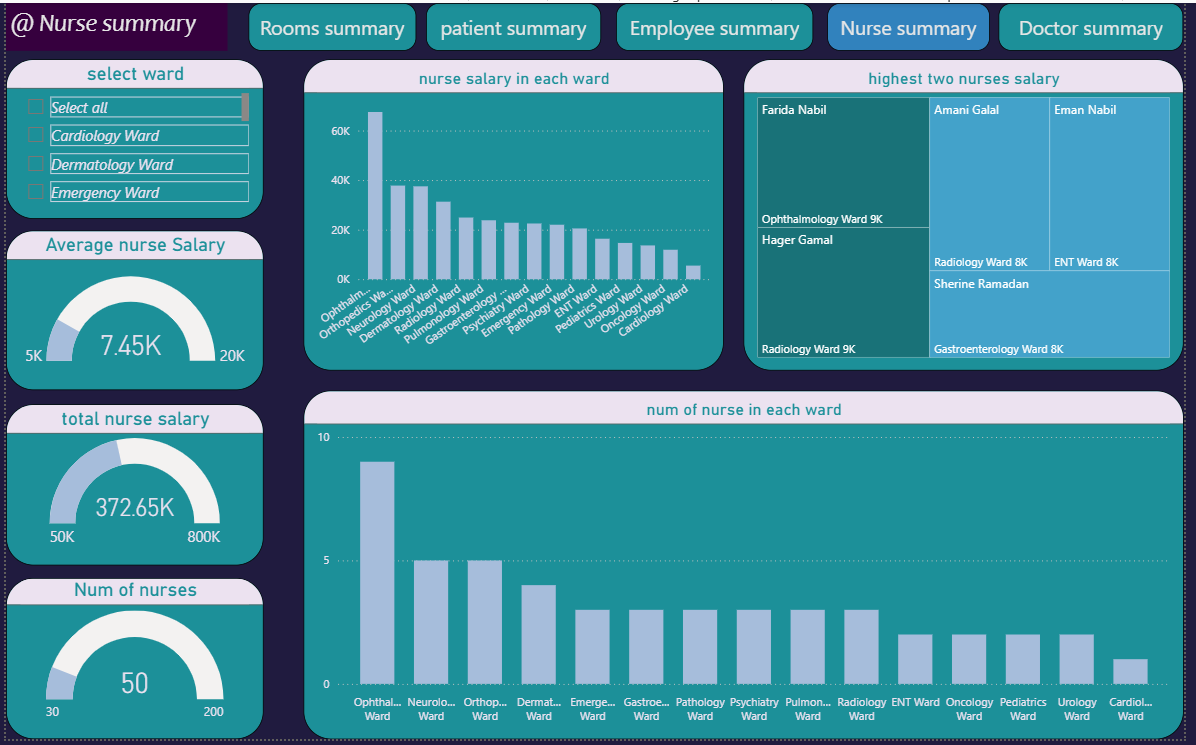

What the dashboard file says about the page in this screenshot:
{"tool":"powerbi","page":{"name":"Nurse ","canvas":[1280,800],"ordinal":2},"visuals":[{"type":"gauge","title":"Num of nurses","fields":{"Y":["CountNonNull(Nurse.Nrs_ID)"]},"box":[0,625,279.9,175.3],"z":0},{"type":"gauge","title":"total nurse salary ","fields":{"Y":["Sum(Nurse.Salary)"]},"box":[0,436.1,279.9,175.3],"z":1000},{"type":"gauge","title":"Average  nurse Salary","fields":{"Y":["Avg(Nurse.Salary)"]},"box":[0,247.3,279.9,173.9],"z":2000},{"type":"treemap","title":"highest two nurses salary","fields":{"Group":["Nurse.name"],"Details":["Ward.Name"],"Values":["Sum(Nurse.Salary)"]},"box":[801.6,61.1,478.3,338.3],"z":3000},{"type":"slicer","title":"select ward ","fields":{"Values":["Ward.Name"]},"box":[0,61.1,279.9,173.9],"z":4000},{"type":"clusteredColumnChart","title":"nurse salary in each ward","fields":{"Y":["Sum(Nurse.Salary)"],"Category":["Ward.Name"]},"box":[323.4,61.1,456.5,338.3],"z":5000},{"type":"clusteredColumnChart","title":"num of nurse in each ward ","fields":{"Y":["CountNonNull(Nurse.Nrs_ID)"],"Category":["Ward.Name"]},"box":[323.4,421.2,956.5,379.1],"z":6000},{"type":"textbox","box":[0,0,240.5,51.6],"z":7000},{"type":"actionButton","box":[1078.8,0,201.1,51.6],"z":8000},{"type":"actionButton","box":[663,0,214.7,51.6],"z":9000},{"type":"actionButton","box":[456.5,0,190.2,51.6],"z":10000},{"type":"actionButton","box":[263.6,0,182.1,51.6],"z":11000},{"type":"actionButton","box":[892.7,0,176.6,51.6],"z":12000}]}

Visuals, with their boxes in screenshot pixels (x1, y1, x2, y2), scaled from the page's 1280x800 canvas onto the 1196x745 screenshot:
"Num of nurses" gauge: Rect(0, 582, 262, 744)
"total nurse salary " gauge: Rect(0, 406, 262, 569)
"Average  nurse Salary" gauge: Rect(0, 230, 262, 392)
"highest two nurses salary" treemap: Rect(749, 57, 1195, 372)
"select ward " slicer: Rect(0, 57, 262, 219)
"nurse salary in each ward" clusteredColumnChart: Rect(302, 57, 729, 372)
"num of nurse in each ward " clusteredColumnChart: Rect(302, 392, 1195, 744)
textbox: Rect(0, 0, 225, 48)
actionButton: Rect(1008, 0, 1195, 48)
actionButton: Rect(619, 0, 820, 48)
actionButton: Rect(427, 0, 604, 48)
actionButton: Rect(246, 0, 416, 48)
actionButton: Rect(834, 0, 999, 48)
